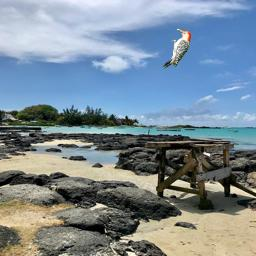Woodpecker: (161, 27, 191, 70)
